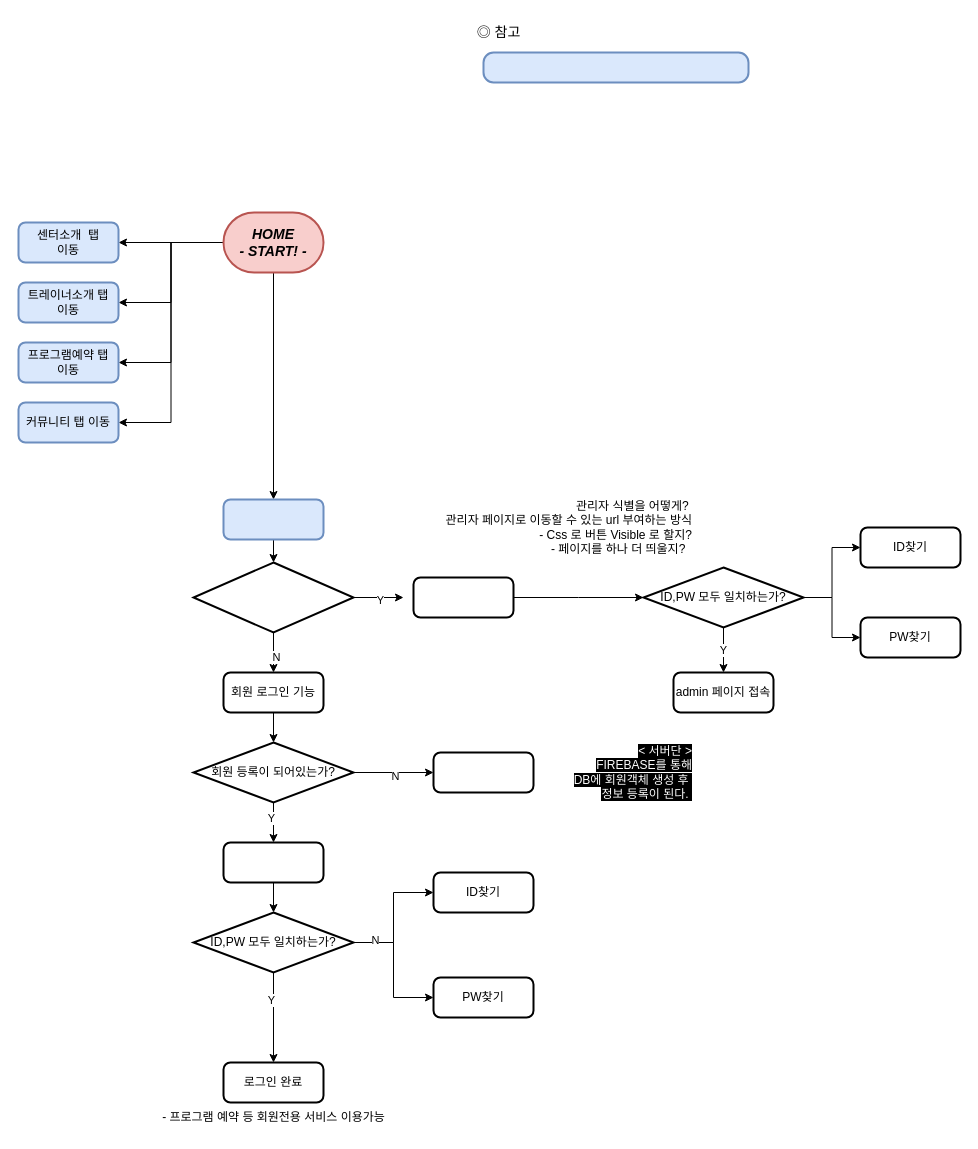
Some shapes in this 978 by 1149 pixel diagram are drawn without their labels. Here are the shapes that lost their labels. From the top down, the box of each, then its label:
(482, 51, 749, 83): HOME 에서 바로 이용할 수 있는 서비스
(222, 498, 324, 540): 로그인
(192, 561, 354, 633): 관리자인가? Y / N
(412, 576, 514, 618): 관리자 로그인
(432, 751, 534, 793): 회원가입창
(222, 841, 324, 883): ID, PW 입력
